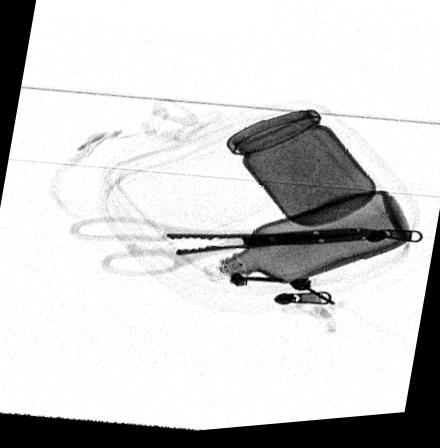Scissors: (72, 219, 394, 278)
